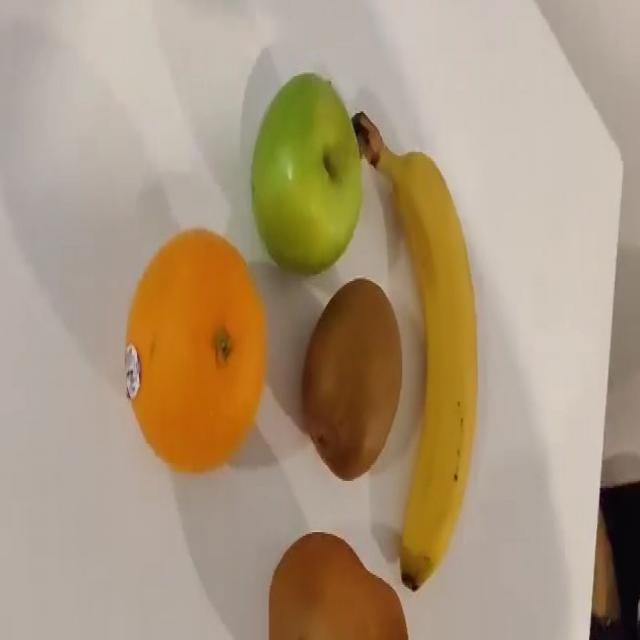Apple: (250, 71, 363, 276)
Banana: (351, 110, 478, 591)
Orange: (123, 226, 267, 473)
